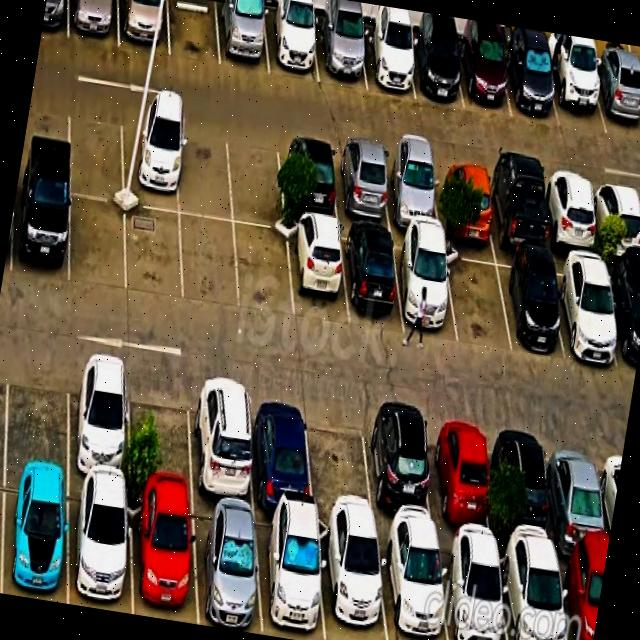empty: (307, 396, 375, 526), (130, 365, 194, 498), (6, 346, 68, 475), (444, 245, 511, 351), (227, 128, 285, 230), (180, 215, 240, 310), (126, 205, 183, 304), (234, 225, 293, 319), (178, 120, 233, 220), (70, 195, 126, 292), (69, 101, 123, 201), (168, 0, 220, 65)
occupied: (363, 405, 437, 535), (192, 500, 263, 635), (129, 490, 198, 625), (255, 510, 325, 640), (1, 471, 69, 604), (426, 412, 493, 545), (69, 479, 133, 614), (318, 519, 387, 640), (191, 375, 254, 507), (249, 385, 313, 514), (546, 429, 609, 559), (69, 354, 130, 486), (496, 421, 557, 552), (378, 531, 448, 640), (552, 255, 620, 365), (438, 537, 508, 640), (495, 252, 564, 354), (393, 235, 458, 343), (341, 226, 404, 331), (498, 546, 567, 640), (288, 219, 348, 325), (12, 181, 70, 284), (121, 111, 179, 212), (485, 166, 549, 253), (278, 136, 339, 221), (434, 159, 495, 243), (333, 143, 392, 227), (381, 150, 441, 232), (546, 54, 607, 134), (542, 173, 600, 255), (503, 44, 559, 126), (457, 38, 512, 117), (557, 553, 606, 640), (407, 34, 464, 108), (264, 7, 319, 82), (359, 26, 415, 99), (589, 60, 640, 139), (591, 179, 640, 261), (217, 0, 269, 75), (605, 262, 640, 373), (315, 19, 367, 89), (118, 0, 170, 55), (69, 0, 119, 47)
